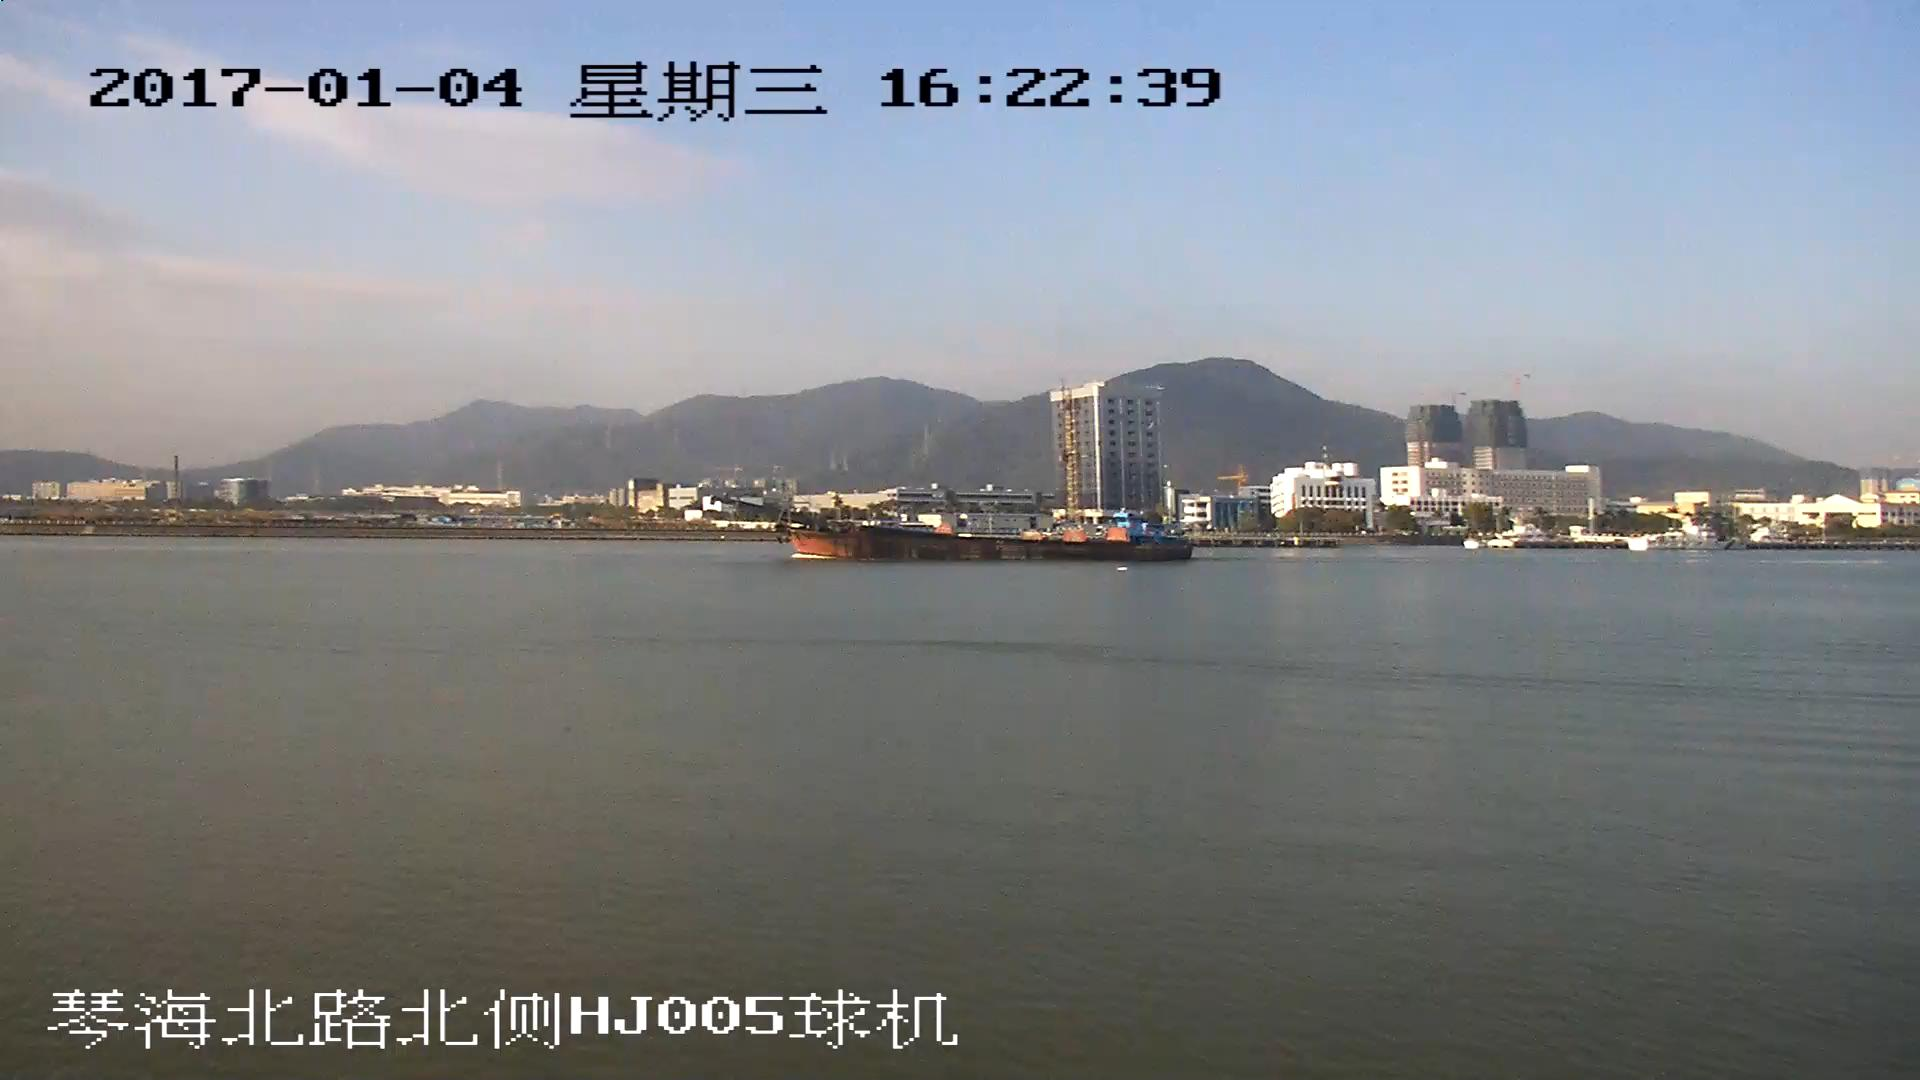bulk cargo carrier: (724, 493, 1197, 560)
